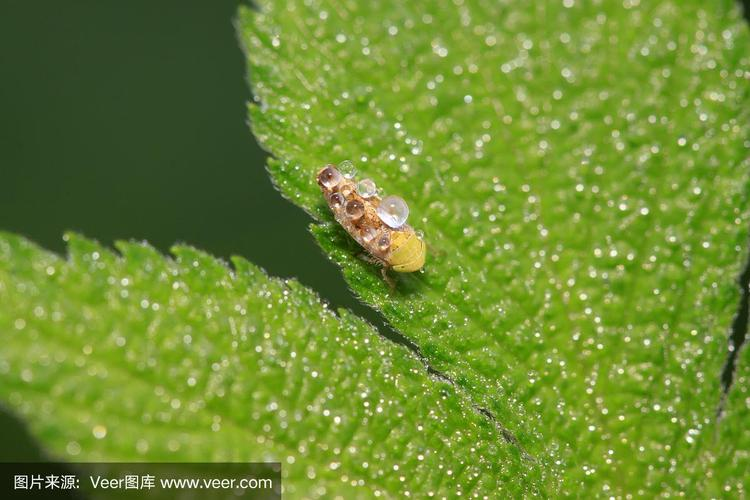Cicadellidae: (317, 161, 449, 293)
